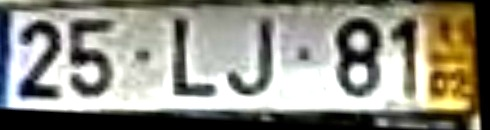1: (388, 15, 422, 107)
2: (14, 17, 69, 104)
5: (67, 19, 119, 102)
8: (329, 14, 388, 103)
J: (222, 14, 278, 101)
L: (168, 15, 224, 103)
